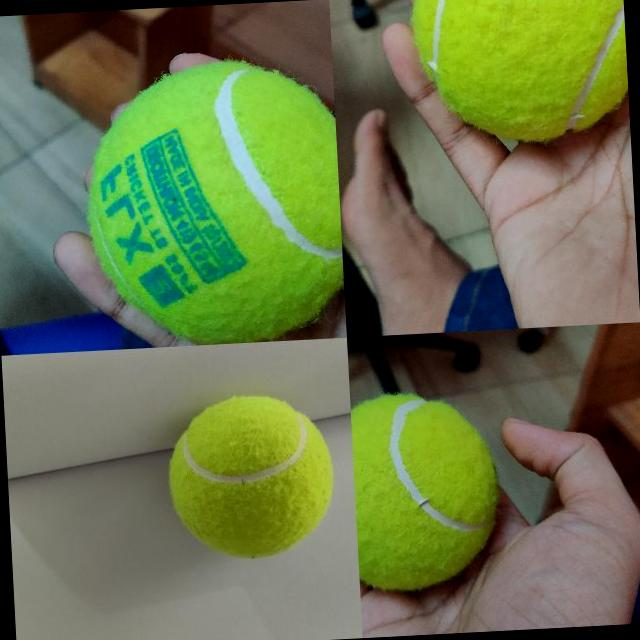Tennis Ball: (81, 56, 346, 350), (410, 0, 631, 149), (162, 392, 339, 566), (351, 390, 503, 592)
